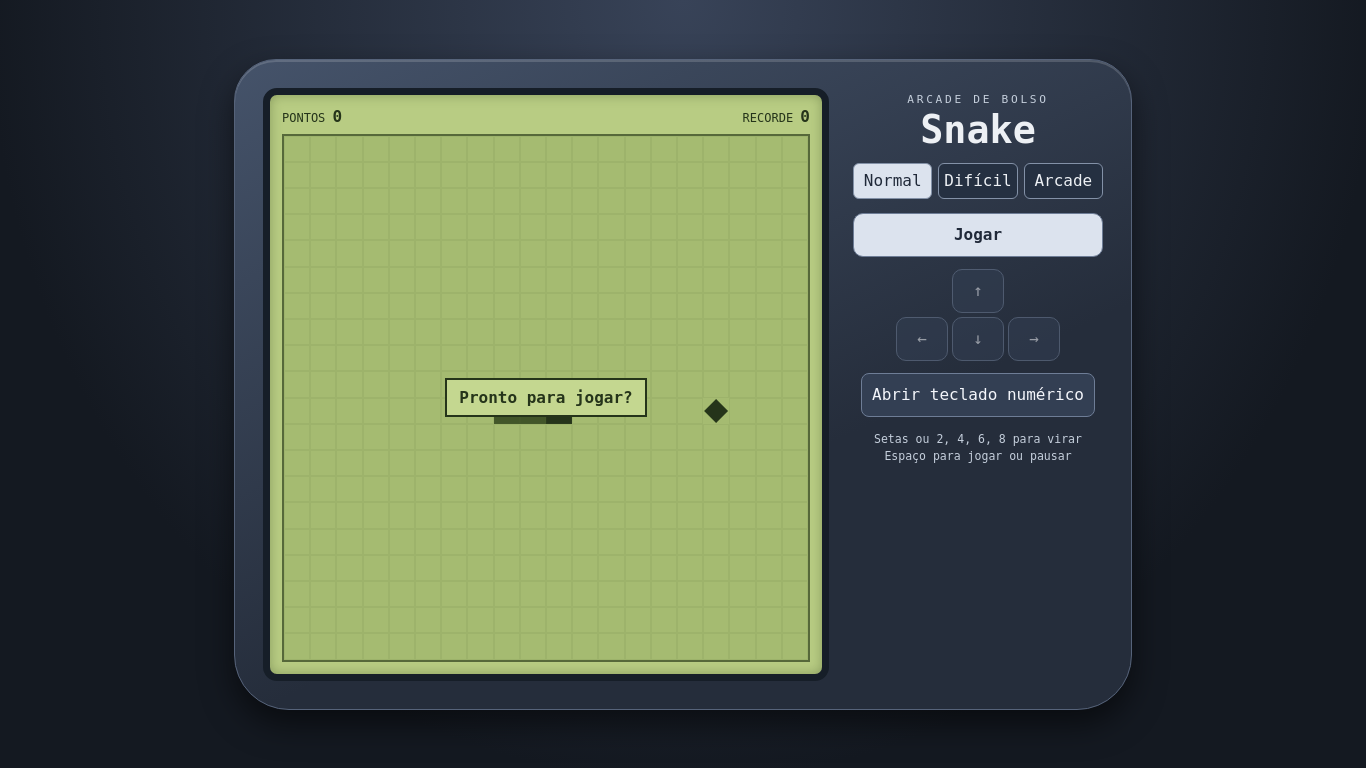
Test: eats, pauses and restarts after a wall collision
Click the button "Difícil": (978, 181) top-left (938, 163), bottom-right (1018, 199)
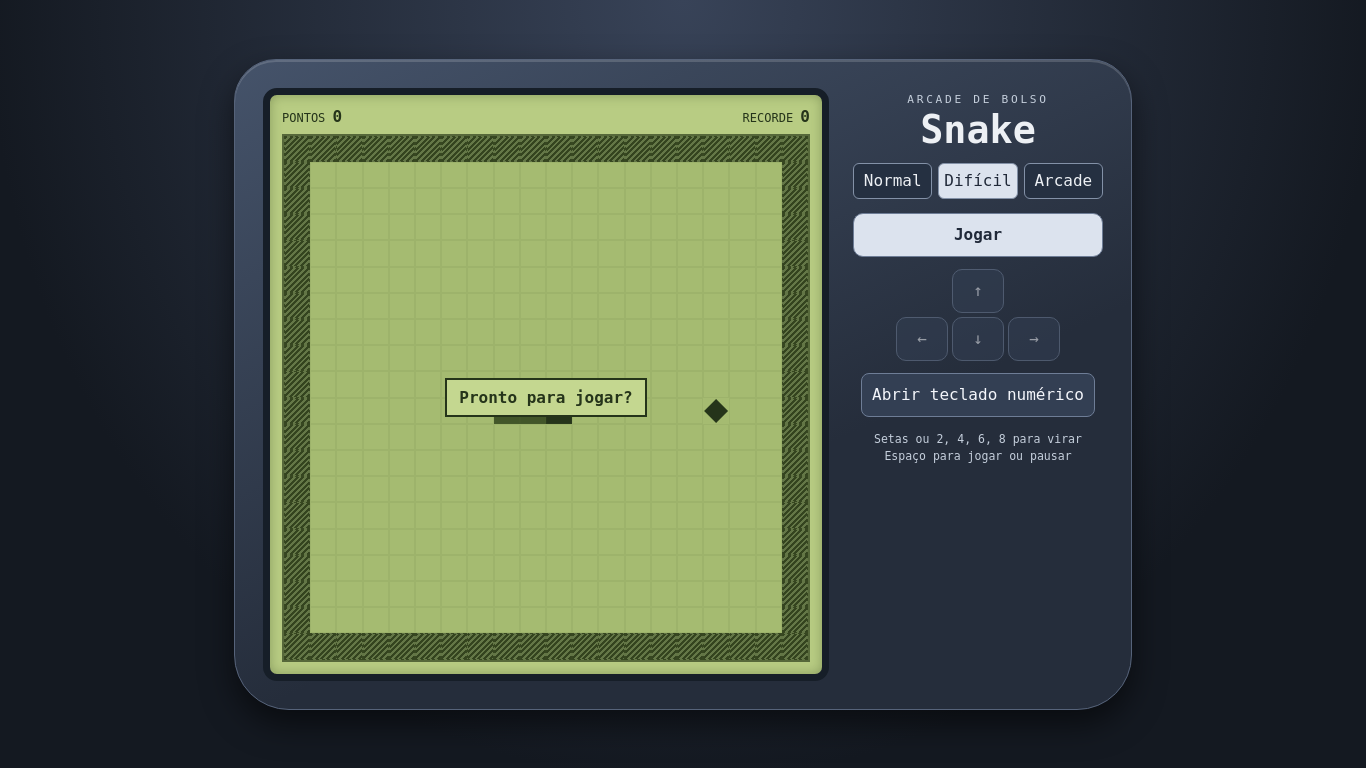
Click the button "Jogar": (978, 235) top-left (853, 213), bottom-right (1103, 257)
Wait 690 ms
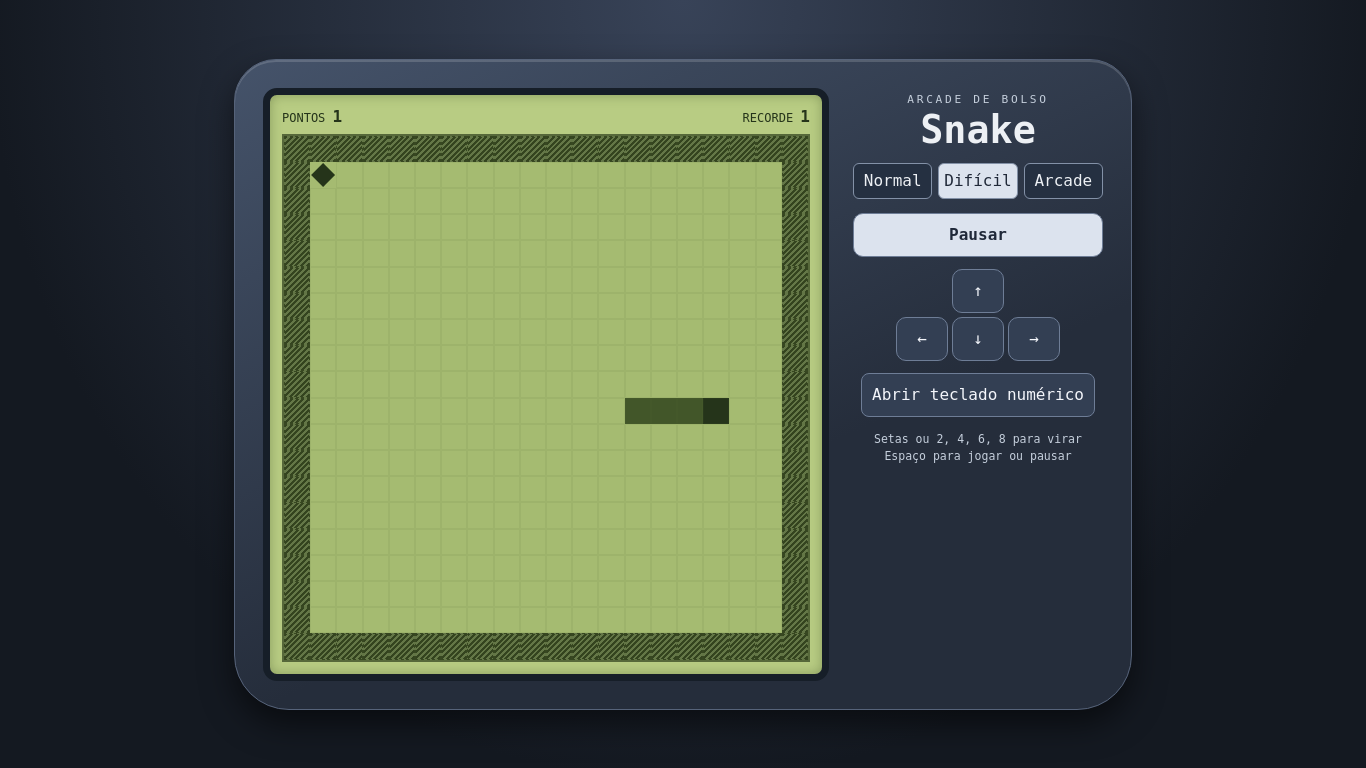
Expected: the text "PONTOS" reads "PONTOS 1", top-left (282, 106), bottom-right (342, 126)
Press Space
Wait 2000 ms
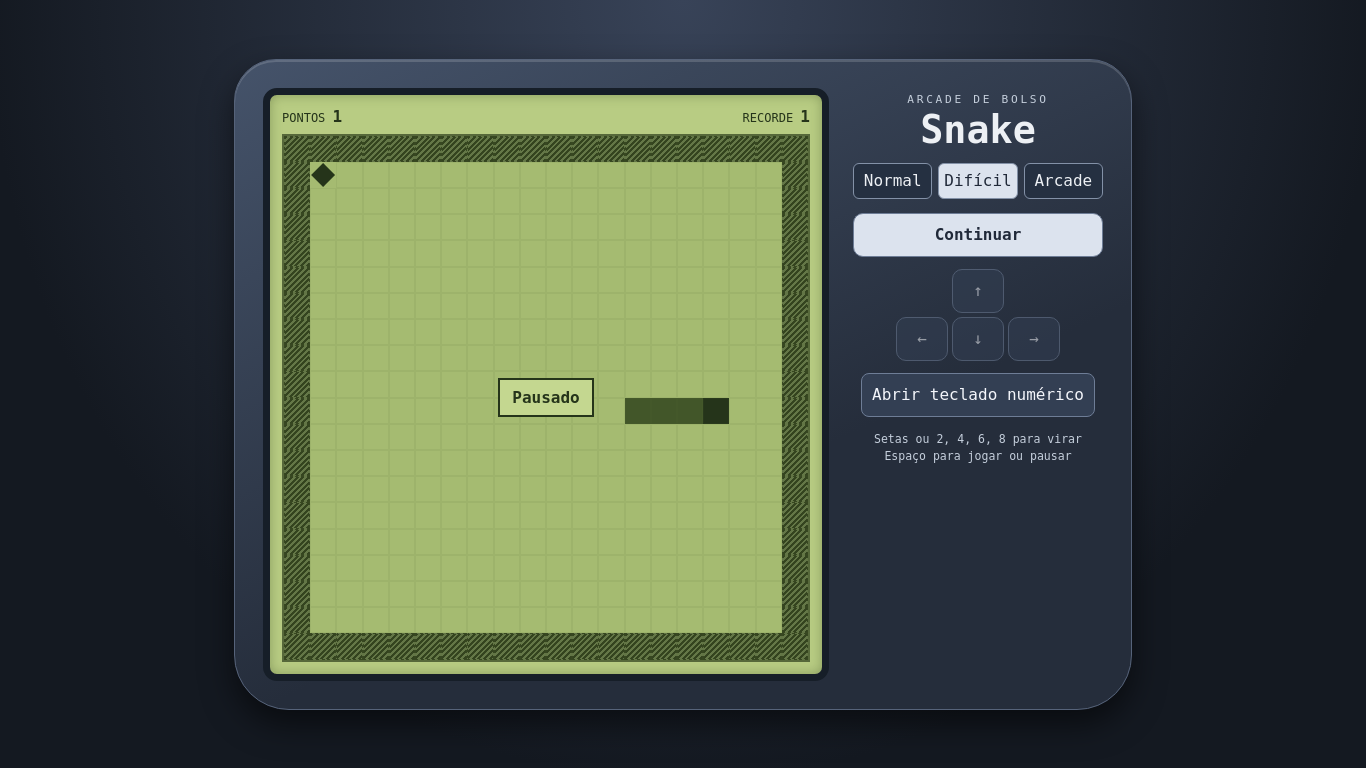
Expected: the message reads "Pausado", top-left (512, 388), bottom-right (580, 407)
Click the button "Continuar": (978, 235) top-left (853, 213), bottom-right (1103, 257)
Wait 330 ms
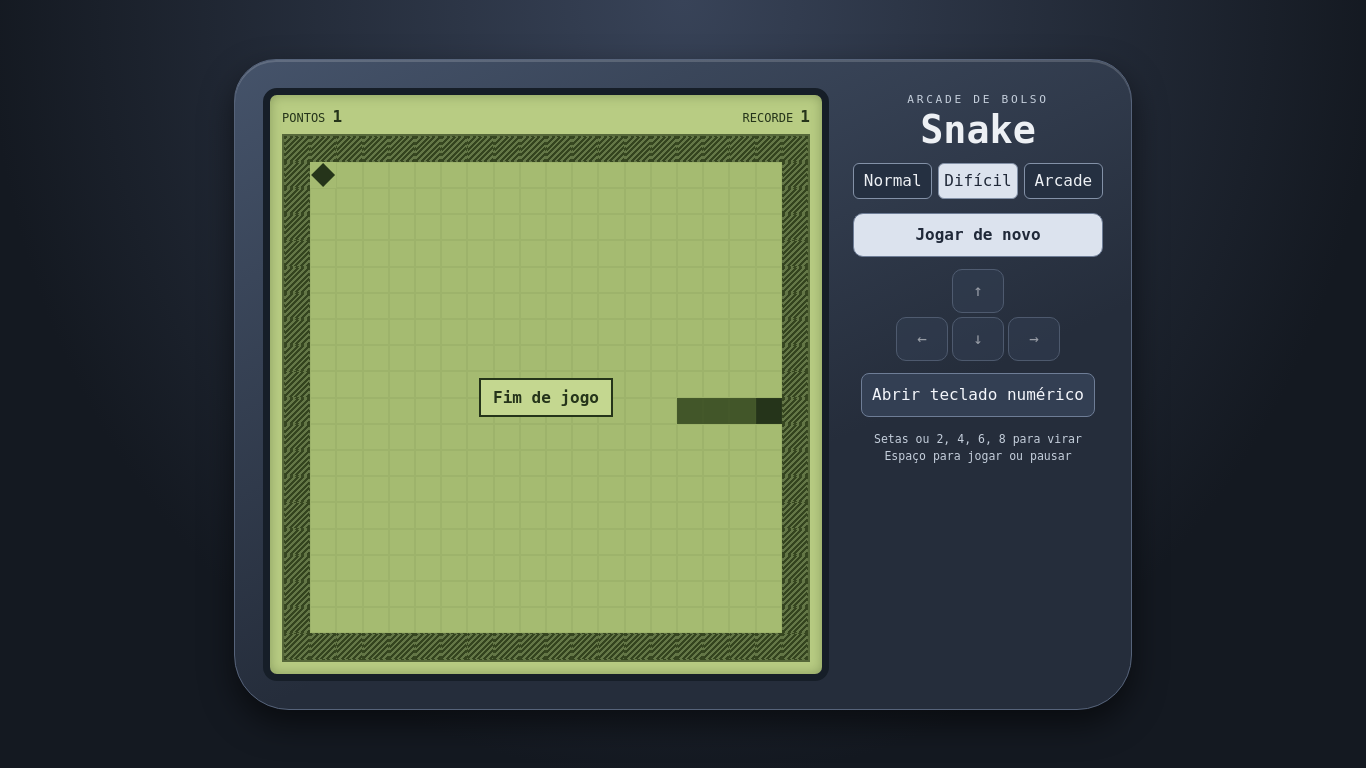
Expected: the message reads "Fim de jogo", top-left (493, 388), bottom-right (599, 407)
Click the button "Jogar de novo": (978, 235) top-left (853, 213), bottom-right (1103, 257)
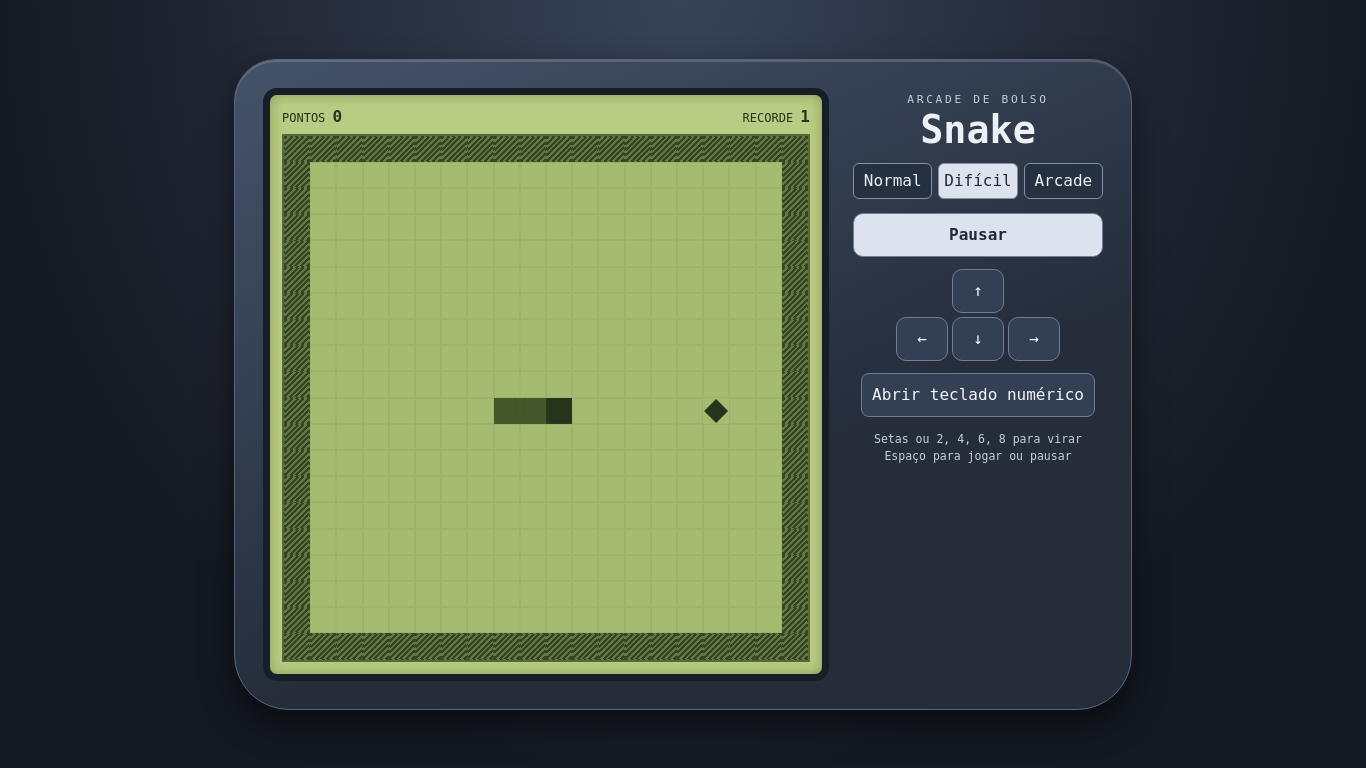
Expected: the text "RECORDE" reads "RECORDE 1", top-left (743, 106), bottom-right (810, 126)
Expected: the text "PONTOS" reads "PONTOS 0", top-left (282, 106), bottom-right (342, 126)
